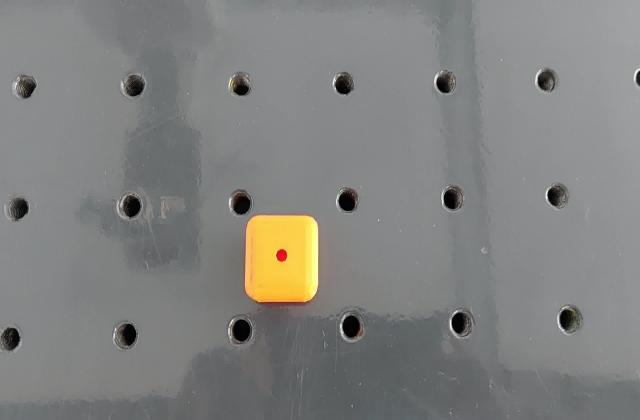cube: (244, 213, 323, 310)
